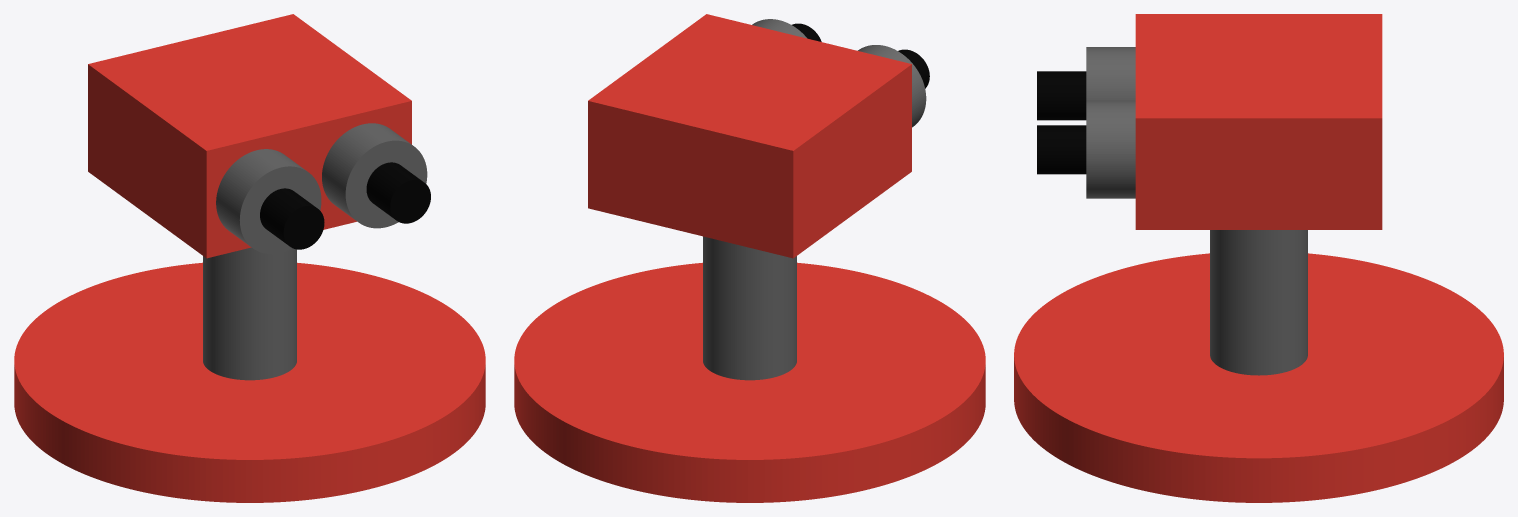
Rendered from Blaster.glb.
The picture shows the model from 3 angles, left to right: view 1: azimuth 30°, elevation 25°; view 2: azimuth 150°, elevation 25°; view 3: azimuth 270°, elevation 25°; orthographic projection. The views are drawn at different scales.
Visible parts, largest first — view 1: Cylinder; view 2: Cylinder; view 3: Cylinder.
Boxes of the visible parts, <box> form: Cylinder: <box>14,14,485,502</box>; Cylinder: <box>514,14,985,502</box>; Cylinder: <box>1014,14,1503,502</box>.
Size of the model in its own units: 0.9937 by 0.7462 by 0.9937.
